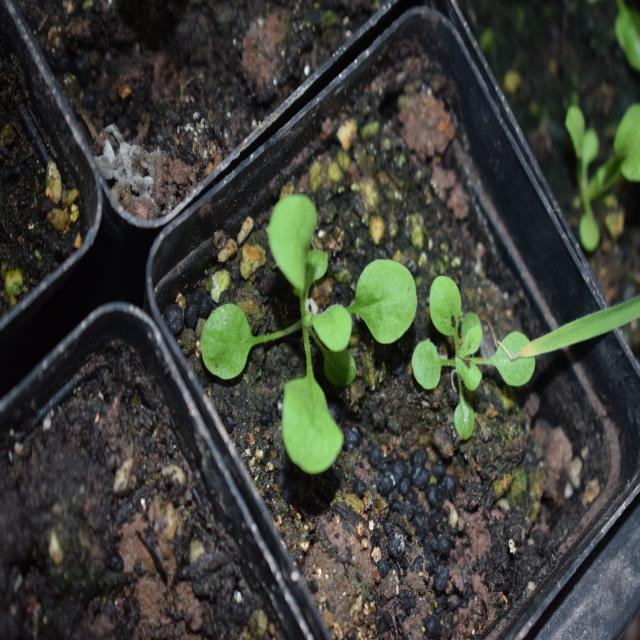Shepherd_Purse: (220, 194, 410, 466)
